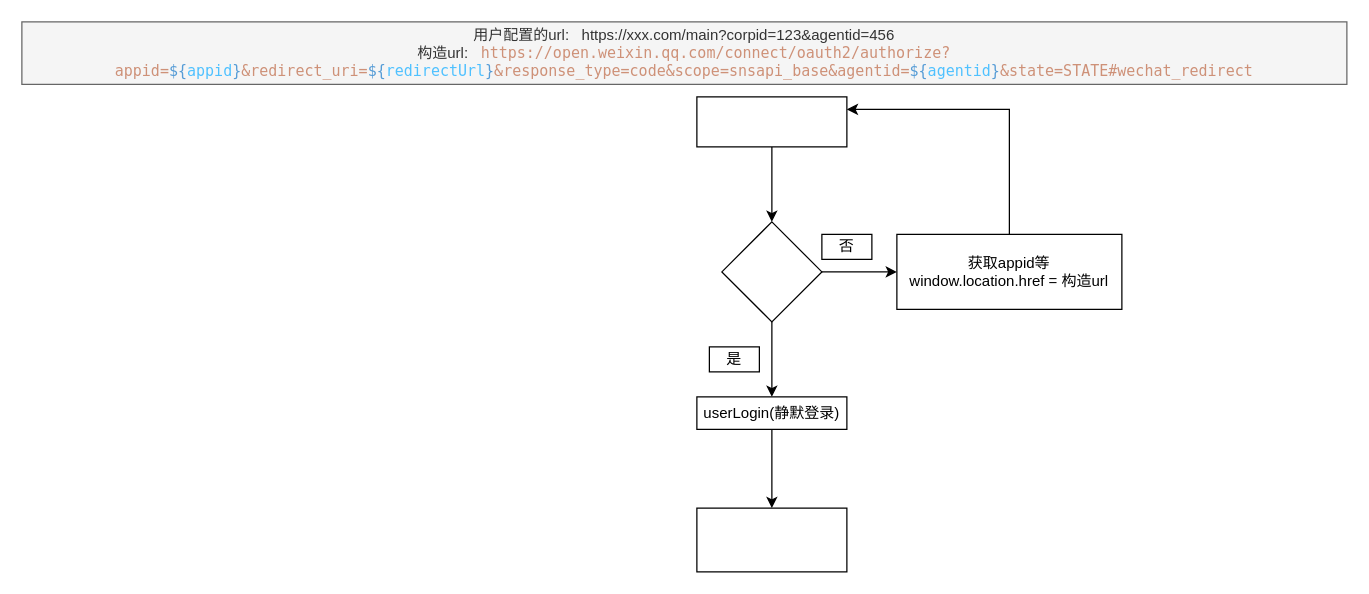
Some shapes in this 1369 by 594 pixel diagram are drawn without their labels. Each missing label, with the centre of its shape:
code存在: point (771, 271)
刷新页面 https://xxx.com/main: point (771, 539)
应用入口 useEffect: point (771, 121)
